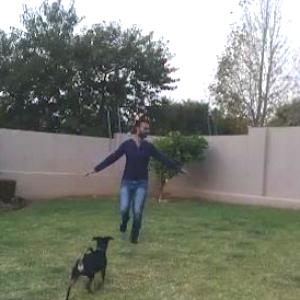land: (80, 108, 216, 272)
